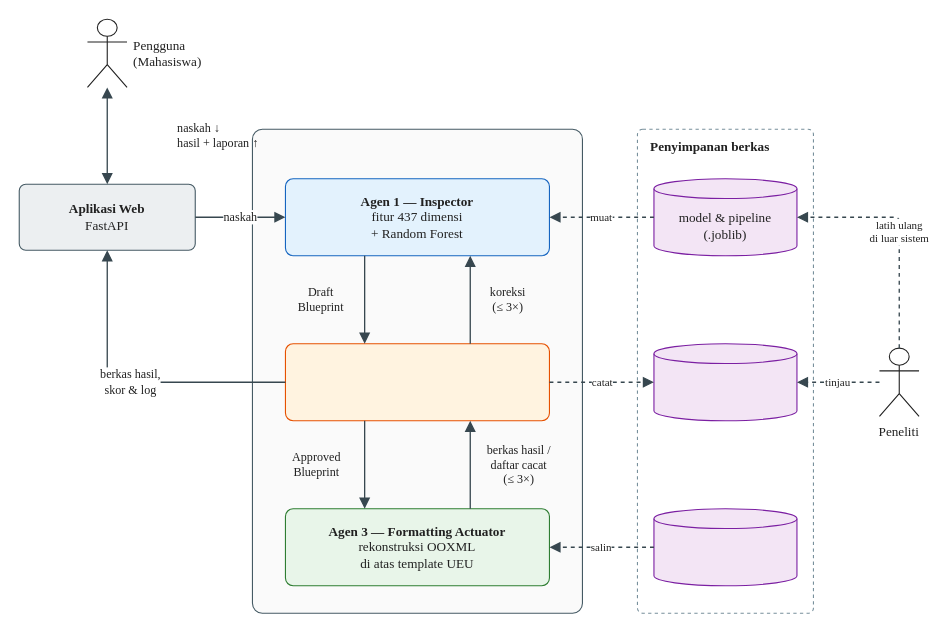
This 948x633 diagram has some shape labels left out. The box of each missing label's shape, as (x1, y1, x2, y2) in pixels:
Agen 2 — Quality Critic Tier 1: audit blueprint Tier 2: uji 8 kriteria: (284, 343, 549, 421)
Multi-Agent System Asdoku: (251, 128, 582, 613)
pool koreksi (.csv): (653, 343, 797, 421)
template UEU (.docx): (653, 508, 797, 586)
